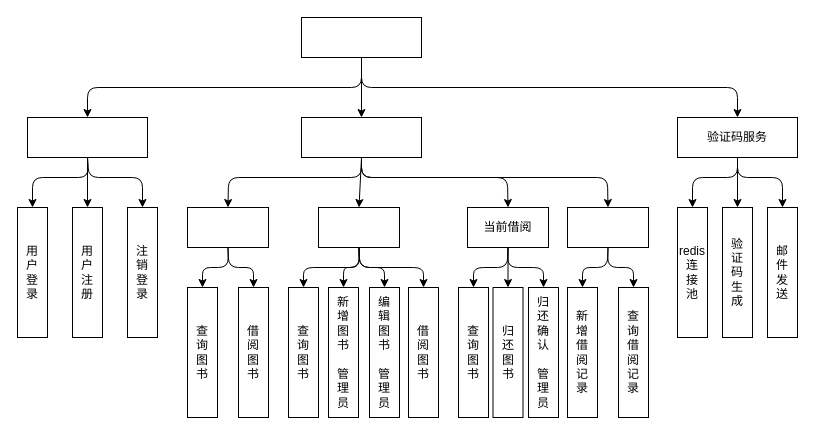
The diagram is 815 pixels wide and 435 high, and some of its shapes have lost their labels. Each missing label, with the centre of its shape:
"SSM_CloudLibrary" belongs at (x=361, y=37).
"借阅记录" belongs at (x=607, y=227).
"图书借阅" belongs at (x=359, y=227).
"图书管理" belongs at (x=361, y=137).
"新书推荐" belongs at (x=227, y=227).
"用户登录" belongs at (x=87, y=137).
